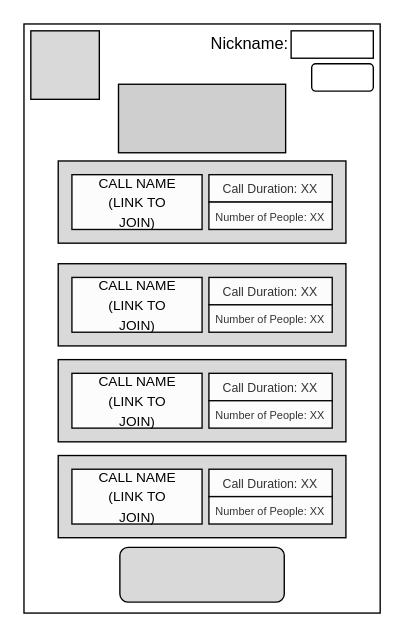
This 404x637 diagram has some shape labels left out. Each missing label, with the centre of its shape:
"confirm" goes at point (341, 76).
"LIST OF CALLS WITH TAG: XXXX" goes at point (201, 118).
"LOAD MORE CALLS WITH TAG: XXXX" goes at point (201, 574).
"LOGO/ HOME" goes at point (64, 64).
